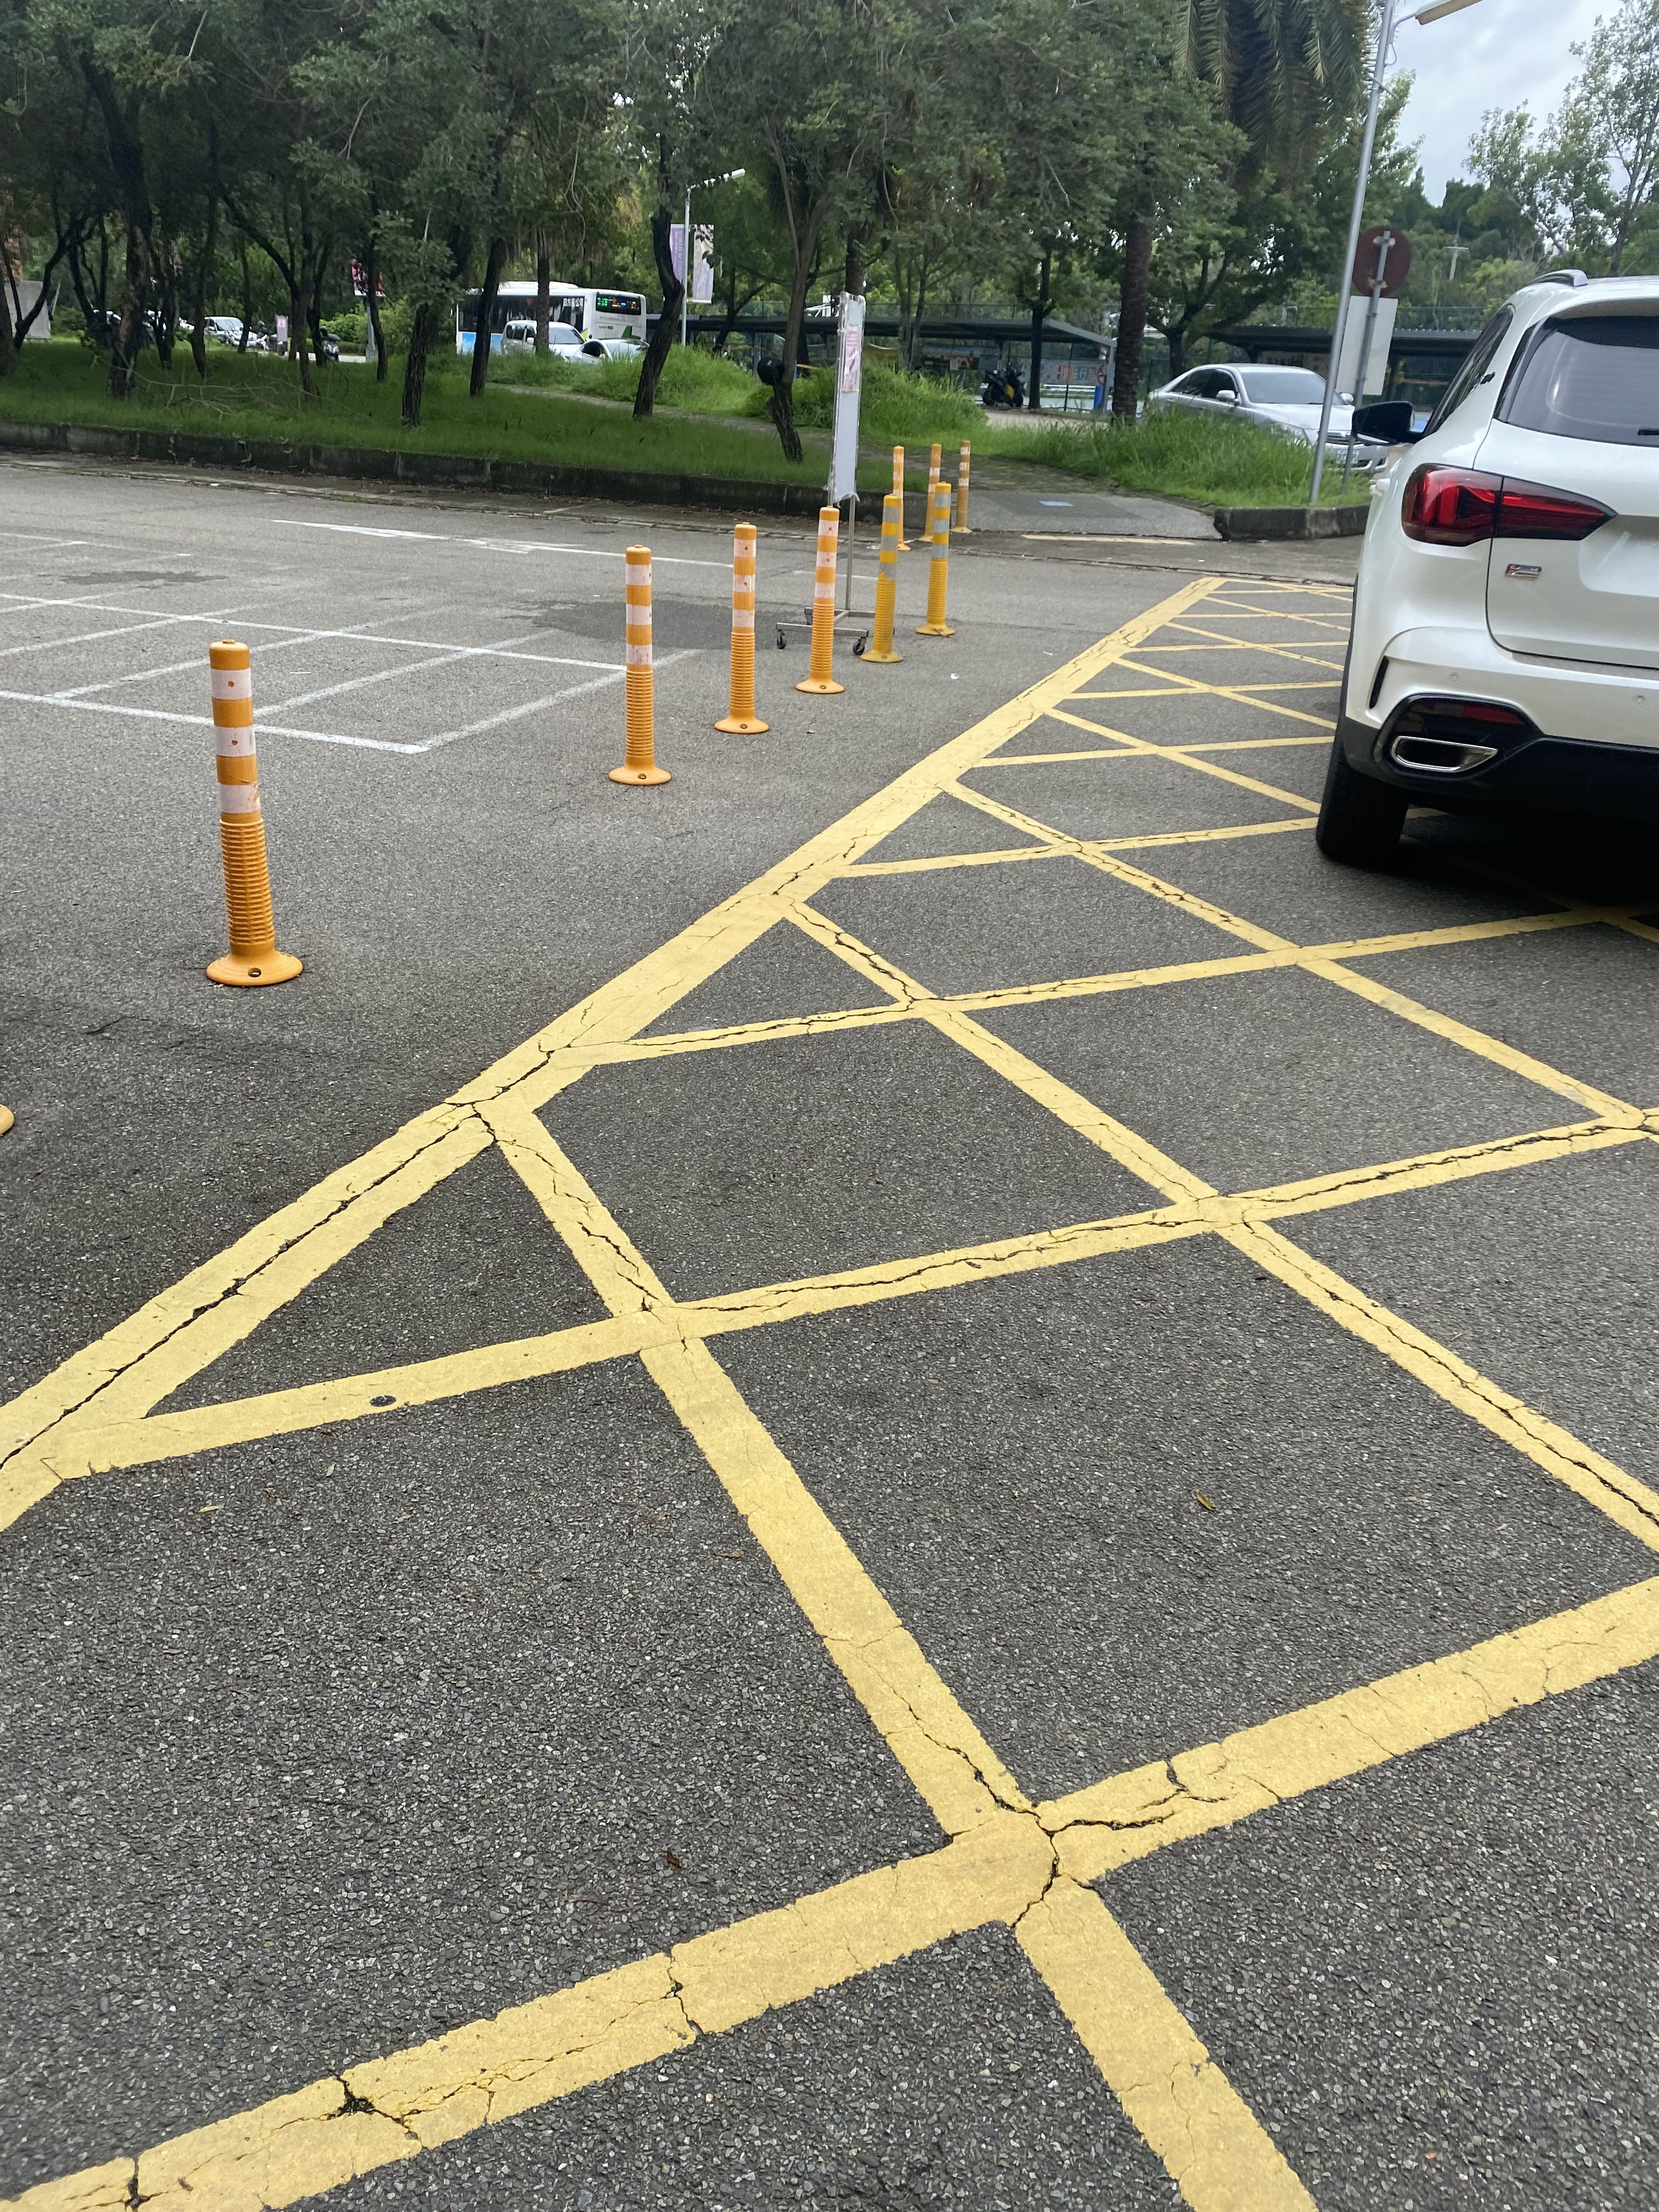sidewalk: (903, 430, 1249, 578)
